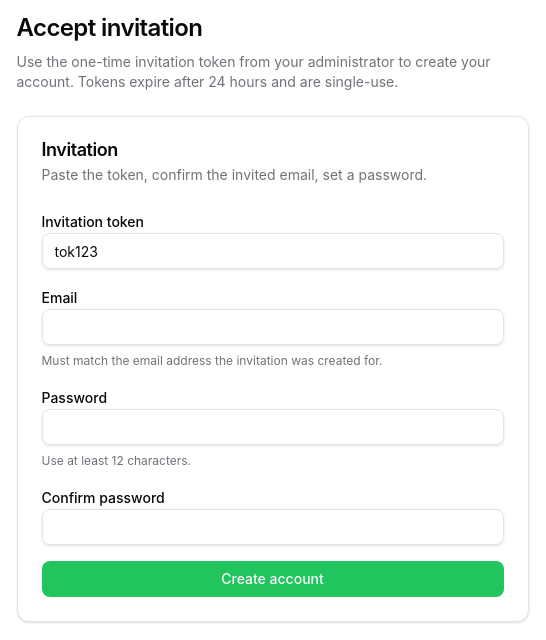
Scenario: InviteAcceptPage › prefills the token from the query string and creates the account
Expected: the field labelled "Invitation token" holds "tok123", [42,233,504,269]
Type "a@b.com" into the field labelled "Email" at (272, 327), box [42,309,504,345]
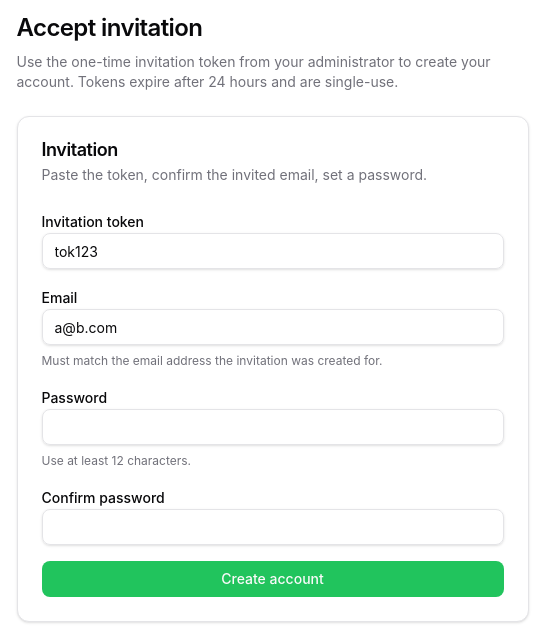
Type "longenoughpassword123" into the password field labelled "Password" at (272, 427), box [42,409,504,445]
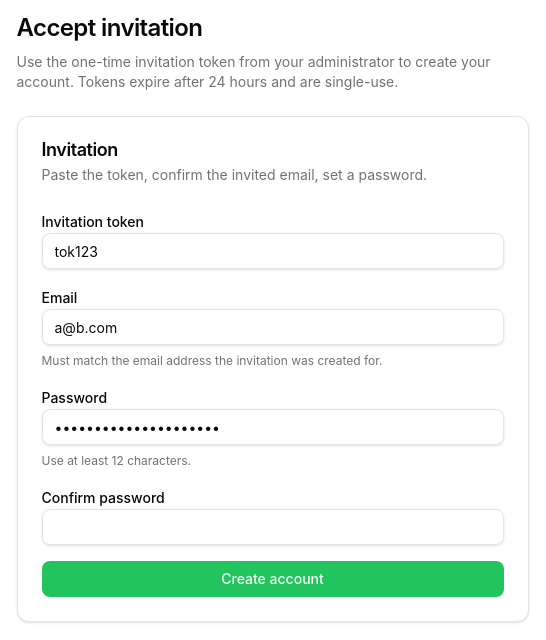
Type "longenoughpassword123" into the password field labelled "Confirm password" at (272, 527), box [42,509,504,545]
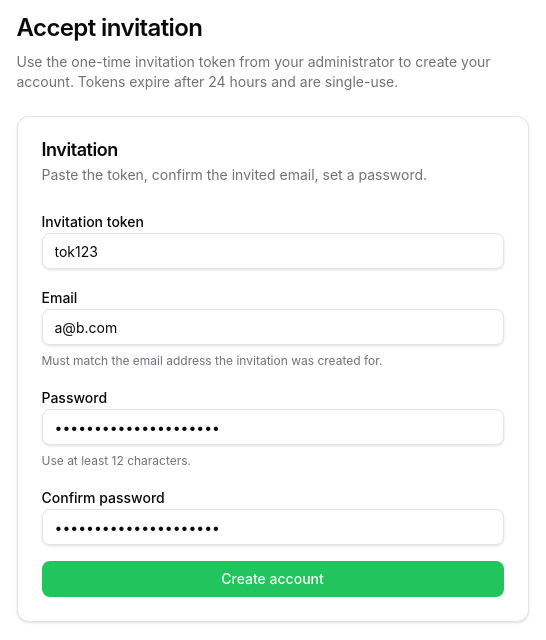
Click the button "Create account" at (272, 579), box [42,561,504,597]
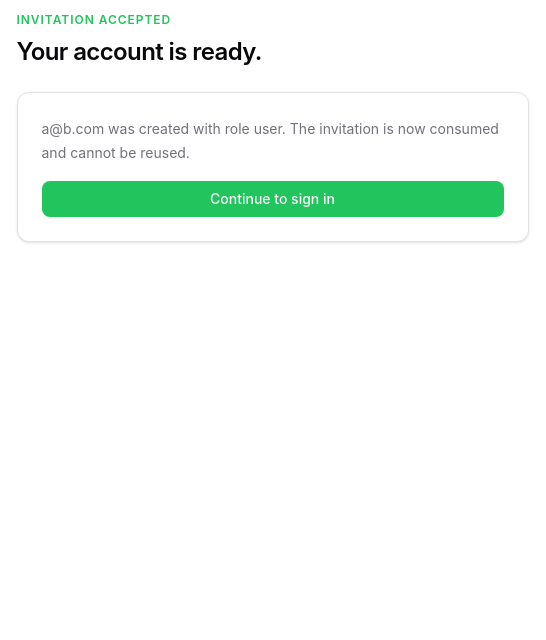
Now the heading "Your account is ready." is shown, box [16,37,262,66]
